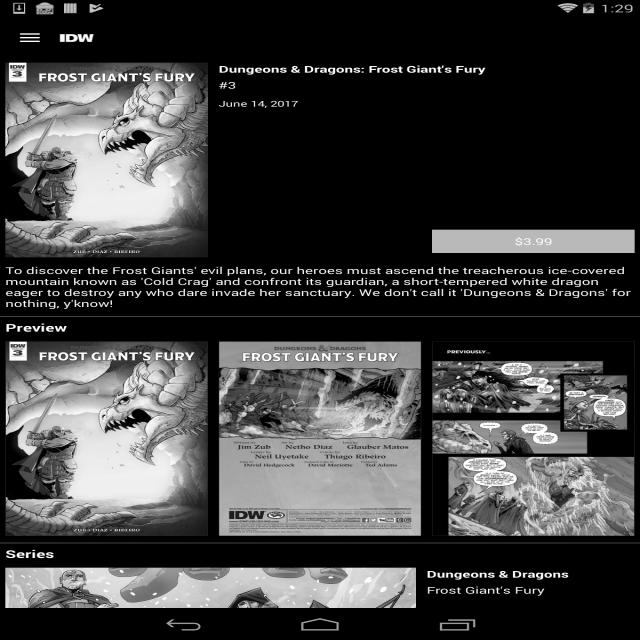Button: (432, 230, 635, 253)
ImageButton: (0, 30, 60, 46)
ImageView: (0, 59, 640, 608), (5, 63, 208, 257), (219, 342, 421, 536), (6, 342, 207, 536), (433, 342, 634, 536), (5, 567, 415, 640), (60, 27, 94, 49)
TextView: (5, 264, 635, 310), (5, 320, 635, 335), (5, 547, 635, 561), (218, 63, 634, 75), (218, 79, 634, 91), (218, 98, 634, 109), (426, 568, 634, 580), (426, 584, 634, 596)
